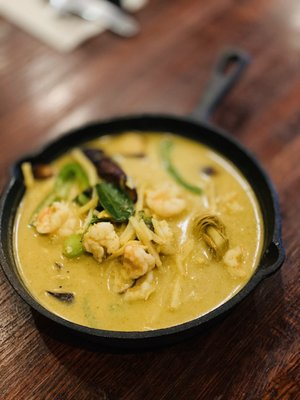sushi: (1, 68, 286, 344)
